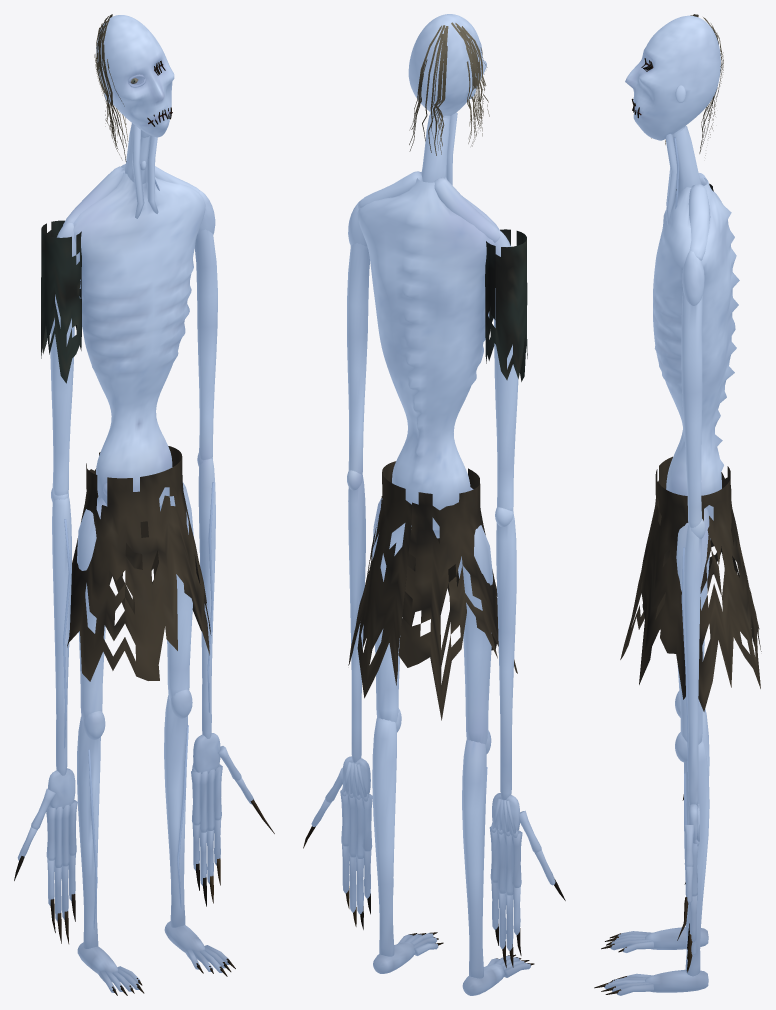
The model's file is bledy_6.glb.
3 renders of one model, left to right at view 1: azimuth 30°, elevation 25°; view 2: azimuth 150°, elevation 25°; view 3: azimuth 270°, elevation 25°, orthographic. The views are drawn at different scales.
Visible parts, largest first — view 1: koza.033, latka.001, koza.034, koza.002, koza.001, latka, koza.029, koza.026, koza.027, koza.028, koza.031, koza.032 (+4 smaller); view 2: koza.033, latka.001, koza.002, koza.001, latka, koza.029, koza.026, koza.034, koza.031, koza.027, vlasy, koza.028 (+4 smaller); view 3: koza.033, latka.001, koza.034, koza.029, koza.002, koza.027, koza.001, koza.025, koza.032, vlasy.
Boxes of the visible parts, x1,y1,x2,y2 form: koza.033: (63,164,205,505); latka.001: (67,446,211,681); koza.034: (96,15,174,137); koza.002: (164,689,229,972); koza.001: (77,711,140,992); latka: (41,220,81,383); koza.029: (194,191,217,460); koza.026: (51,488,71,775); koza.027: (197,453,215,738); koza.028: (50,222,79,495); koza.031: (77,496,107,721); koza.032: (160,482,193,700); koza.033: (357,171,500,530); latka.001: (348,461,517,720); koza.002: (372,708,438,973); koza.001: (462,730,530,995); latka: (485,229,527,381); koza.029: (347,199,369,474); koza.026: (495,507,516,799); koza.034: (408,14,486,115); koza.031: (458,525,492,744); koza.027: (347,470,365,762); vlasy: (409,22,489,155); koza.028: (493,230,518,511); koza.033: (653,173,739,520); latka.001: (620,456,761,711); koza.034: (625,15,720,140); koza.029: (681,251,704,527); koza.002: (604,732,709,995); koza.027: (681,519,705,805); koza.001: (610,691,709,952); koza.025: (665,126,701,224); koza.032: (676,508,710,744); vlasy: (651,14,723,155).
Size of the model in its own units: 0.8885 by 3.1 by 0.4977.
